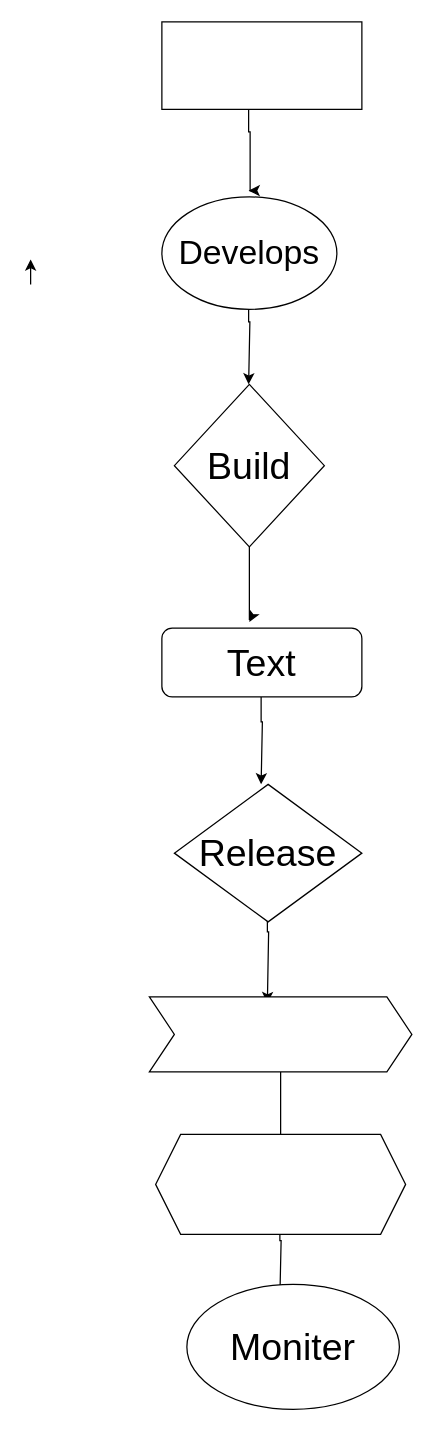
The diagram is 434 pixels wide and 1431 high, and some of its shapes have lost their labels. The centre of each missing label's shape, as x and y in pixels:
Deploy: the point at 280,1034
Operator: the point at 280,1183
Plan: the point at 261,65
